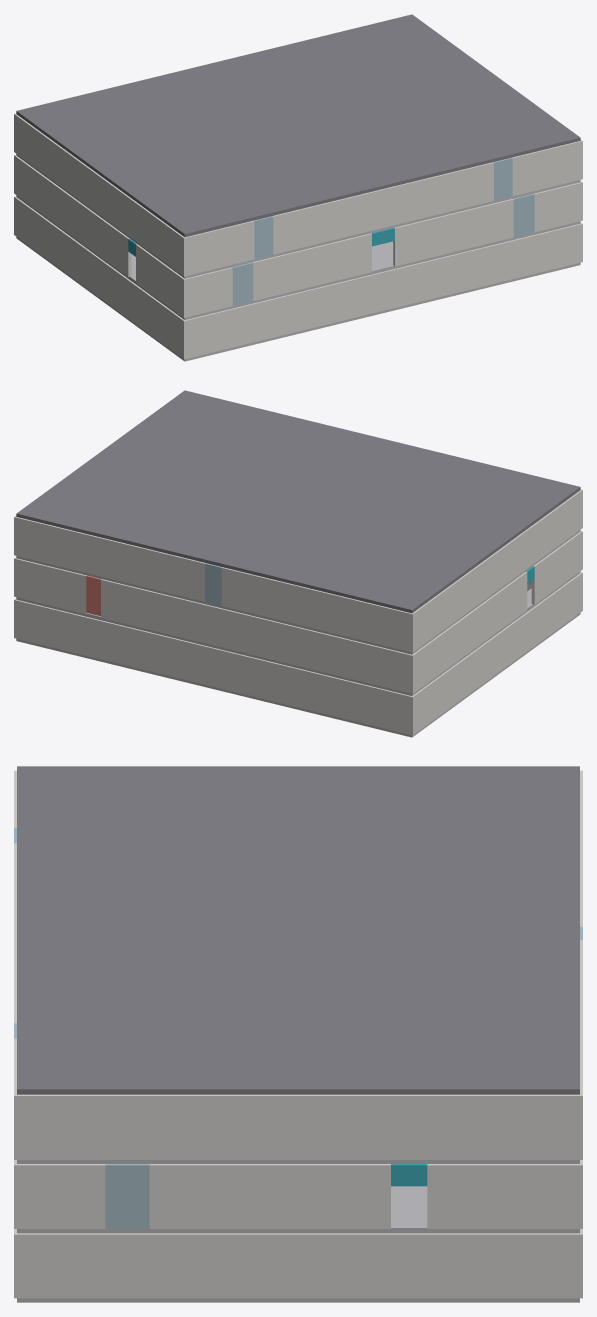
Rendered from mansion_a03.glb.
3 renders of one model, top to bottom at view 1: azimuth 30°, elevation 25°; view 2: azimuth 150°, elevation 25°; view 3: azimuth 270°, elevation 25°, orthographic. The views are drawn at different scales.
Parts seen in each view (by area): view 1: slab_2_t0_0, slab_2_t0_2, slab_2_t0_1, slab_2_t0_7, slab_2_t0_3, slab_2_t0_5, slab_2_t0_4, slab_2_t0_6, slab_2_t1_0, slab_2_t4_0, slab_2_t5_0, slab_2_t2_0 (+127 smaller); view 2: slab_2_t5_0, slab_2_t5_2, slab_2_t5_1, slab_2_t5_7, slab_2_t5_3, slab_2_t5_5, slab_2_t5_4, slab_2_t5_6, slab_2_t0_0, slab_2_t1_0, slab_2_t4_0, slab_2_t2_0 (+130 smaller); view 3: slab_2_t2_7, slab_2_t3_7, slab_2_t0_7, slab_2_t1_7, slab_2_t4_7, slab_2_t5_7, slab_2_t2_1, slab_2_t3_1, slab_2_t0_1, slab_2_t1_1, slab_2_t4_1, slab_2_t5_1 (+81 smaller).
Boxes of the visible parts, x1,y1,x2,y2 form: slab_2_t0_0: (156, 201, 234, 237); slab_2_t0_2: (256, 177, 333, 212); slab_2_t0_1: (206, 189, 283, 225); slab_2_t0_7: (503, 117, 580, 152); slab_2_t0_3: (305, 165, 382, 200); slab_2_t0_5: (404, 141, 481, 176); slab_2_t0_4: (355, 153, 431, 188); slab_2_t0_6: (454, 129, 530, 164); slab_2_t1_0: (128, 181, 205, 216); slab_2_t4_0: (44, 119, 121, 154); slab_2_t5_0: (16, 99, 93, 134); slab_2_t2_0: (100, 160, 177, 195); slab_2_t5_0: (362, 577, 440, 613); slab_2_t5_2: (263, 553, 340, 588); slab_2_t5_1: (313, 565, 390, 601); slab_2_t5_7: (16, 493, 93, 528); slab_2_t5_3: (214, 541, 291, 576); slab_2_t5_5: (115, 517, 192, 552); slab_2_t5_4: (165, 529, 241, 564); slab_2_t5_6: (66, 505, 142, 540); slab_2_t0_0: (503, 475, 580, 510); slab_2_t1_0: (475, 495, 552, 530); slab_2_t4_0: (391, 557, 468, 592); slab_2_t2_0: (447, 516, 524, 551); slab_2_t2_7: (204, 1049, 298, 1094); slab_2_t3_7: (298, 1049, 392, 1094); slab_2_t0_7: (17, 1049, 110, 1094); slab_2_t1_7: (111, 1049, 204, 1094); slab_2_t4_7: (392, 1049, 485, 1094); slab_2_t5_7: (486, 1049, 579, 1094); slab_2_t2_1: (204, 806, 298, 847); slab_2_t3_1: (298, 806, 392, 847); slab_2_t0_1: (17, 806, 110, 847); slab_2_t1_1: (111, 806, 204, 847); slab_2_t4_1: (392, 806, 485, 847); slab_2_t5_1: (486, 806, 579, 847).
Size of what is drawn, in the model's own units: 38.3 by 11.7 by 28.3.
